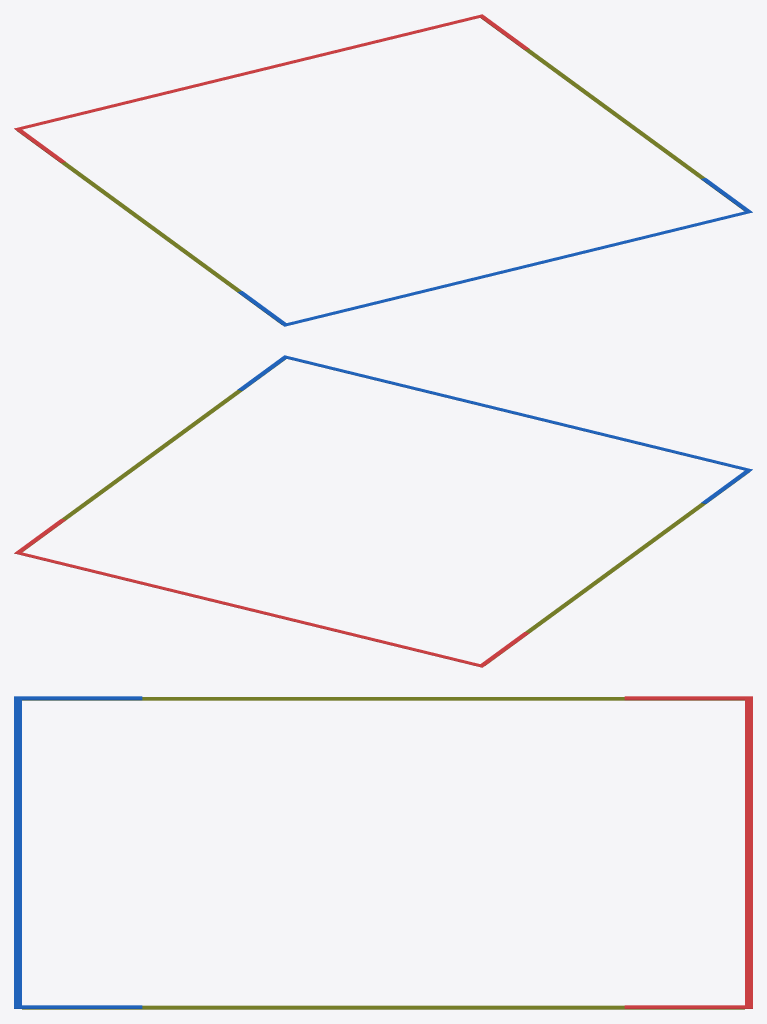
3 views of the same model, one above another, from view 1: azimuth 30°, elevation 25°; view 2: azimuth 150°, elevation 25°; view 3: azimuth 270°, elevation 25° (orthographic). The views are drawn at different scales.
Bounding box in the file's own units: 93.44 × 0.1 × 93.44.
Materials: 3 (3 with a texture image).
